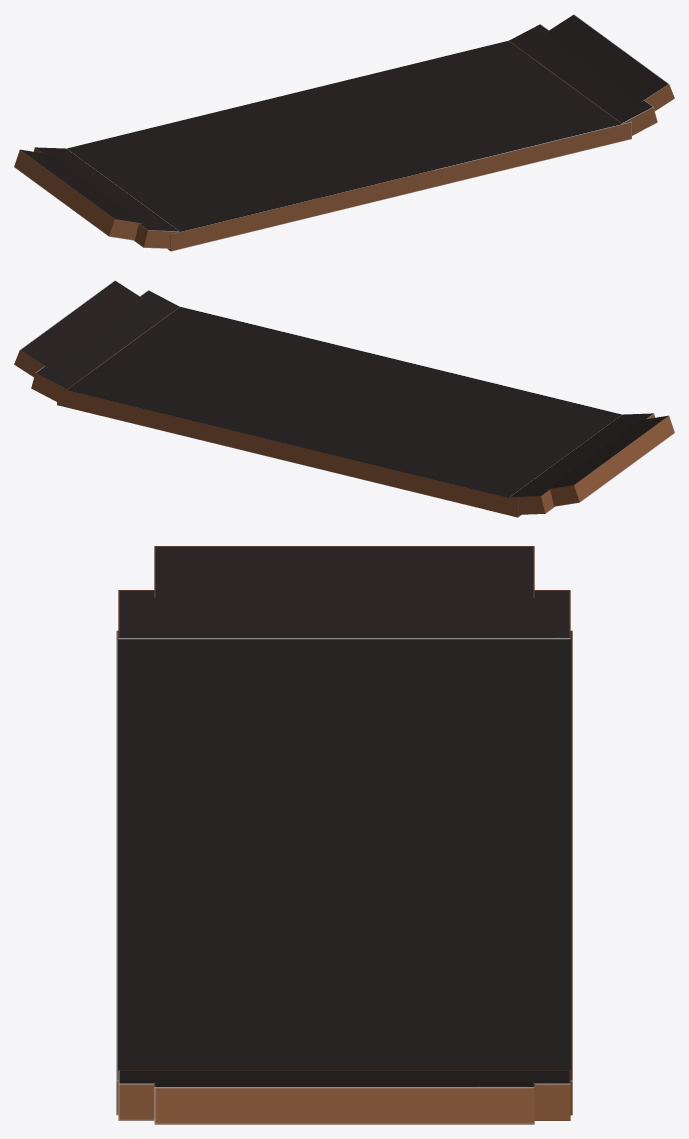
The model's file is deck.fbx.
3 views of the same model, one above another, from view 1: azimuth 30°, elevation 25°; view 2: azimuth 150°, elevation 25°; view 3: azimuth 270°, elevation 25° (orthographic). The views are drawn at different scales.
Parts seen in each view (by area): view 1: cube.036, cube.034, cube.032, cube.033, cube.035; view 2: cube.036, cube.034, cube.032, cube.033, cube.035; view 3: cube.036, cube.032, cube.035, cube.033, cube.034.
Boxes of the visible parts, x1,y1,x2,y2 form: cube.036: (67,40,631,251); cube.034: (509,24,657,135); cube.032: (14,149,143,240); cube.033: (546,14,674,111); cube.035: (34,147,179,248); cube.036: (57,306,621,517); cube.034: (31,290,179,401); cube.032: (545,415,674,506); cube.033: (14,280,142,377); cube.035: (509,413,654,514); cube.036: (116,630,572,1115); cube.032: (154,546,534,597); cube.035: (118,590,570,639); cube.033: (154,1082,534,1124); cube.034: (118,1070,570,1120).
Bounding box in the file's own units: 215 × 13.37 × 75.
